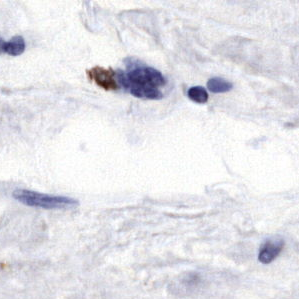Lymphocyte: (83, 64, 119, 92)
